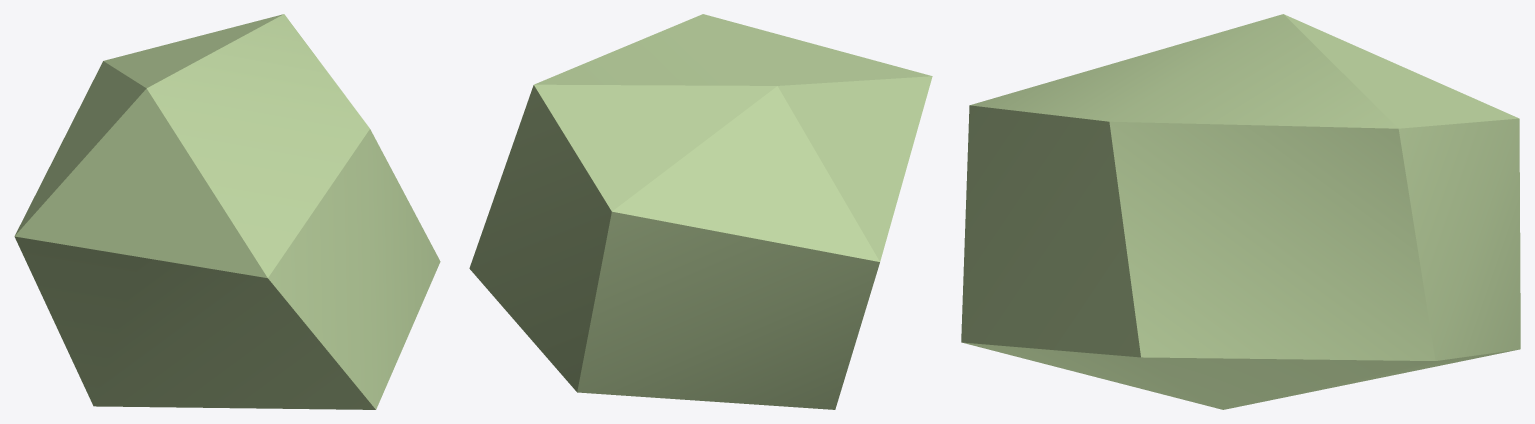
The model's file is Brush_Small.fbx.
The picture shows the model from 3 angles, left to right: view 1: azimuth 30°, elevation 25°; view 2: azimuth 150°, elevation 25°; view 3: azimuth 270°, elevation 25°; orthographic projection. The views are drawn at different scales.
Parts seen in each view (by area): view 1: Bush_Small_02; view 2: Bush_Small_02; view 3: Bush_Small_02.
Boxes of the visible parts, x1,y1,x2,y2 form: Bush_Small_02: (14, 14, 440, 409); Bush_Small_02: (469, 14, 932, 409); Bush_Small_02: (961, 14, 1520, 409).
Bounding box in the file's own units: 0.7284 × 0.603 × 0.874.
